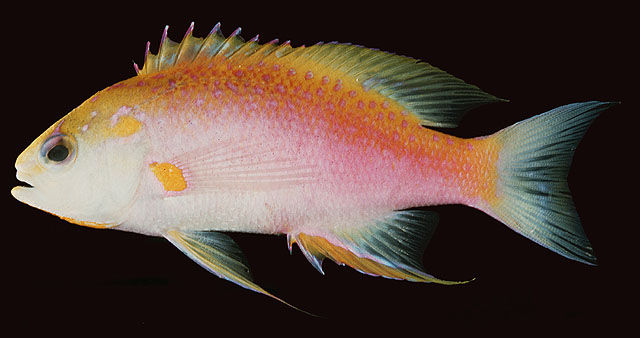fish: (10, 21, 621, 315)
